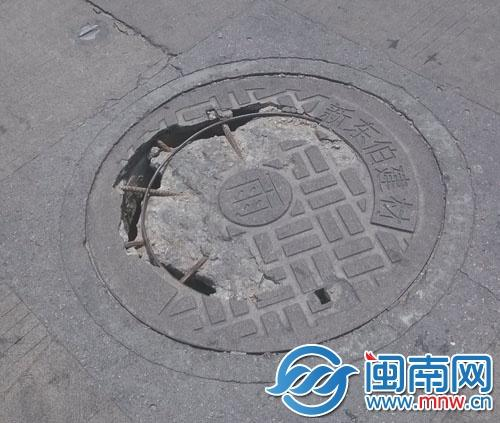broke: (63, 61, 463, 363)
